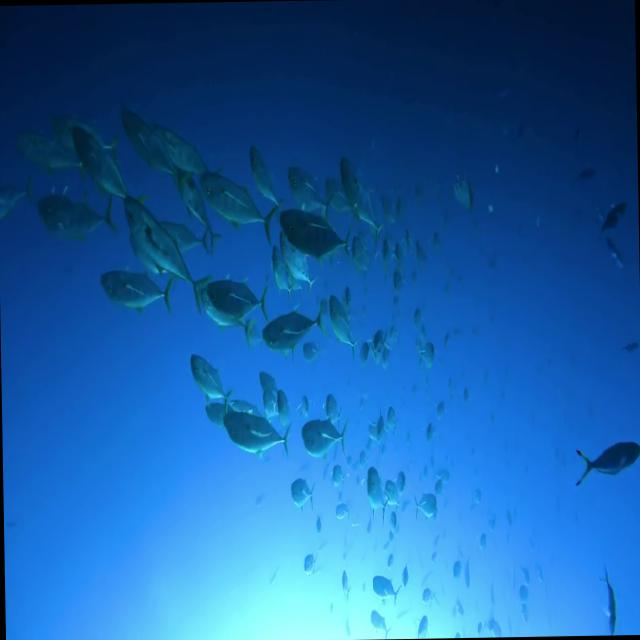fish: (121, 192, 206, 310), (120, 94, 188, 198), (201, 160, 277, 237), (68, 128, 135, 214), (281, 204, 354, 266), (340, 146, 385, 244), (31, 191, 112, 244), (96, 265, 176, 315), (221, 408, 289, 459), (205, 274, 275, 322), (187, 353, 236, 418), (574, 438, 640, 485), (260, 304, 324, 350), (326, 292, 360, 362), (301, 418, 349, 452), (364, 469, 388, 522)
